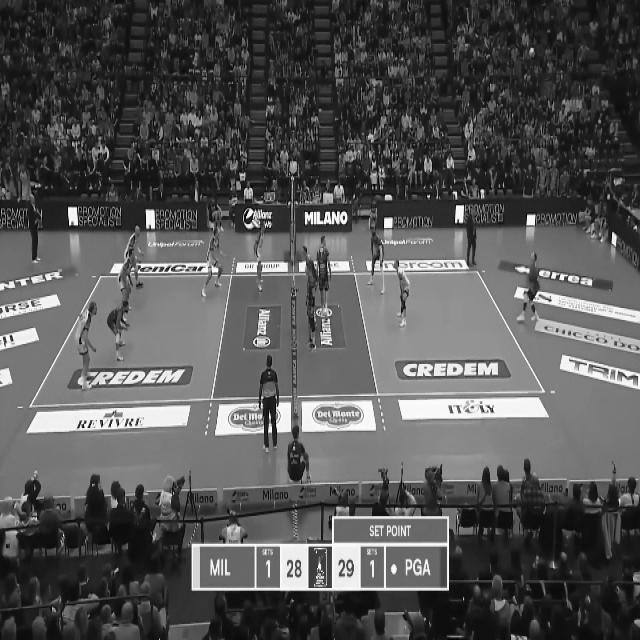volleyball court: (31, 270, 546, 406)
